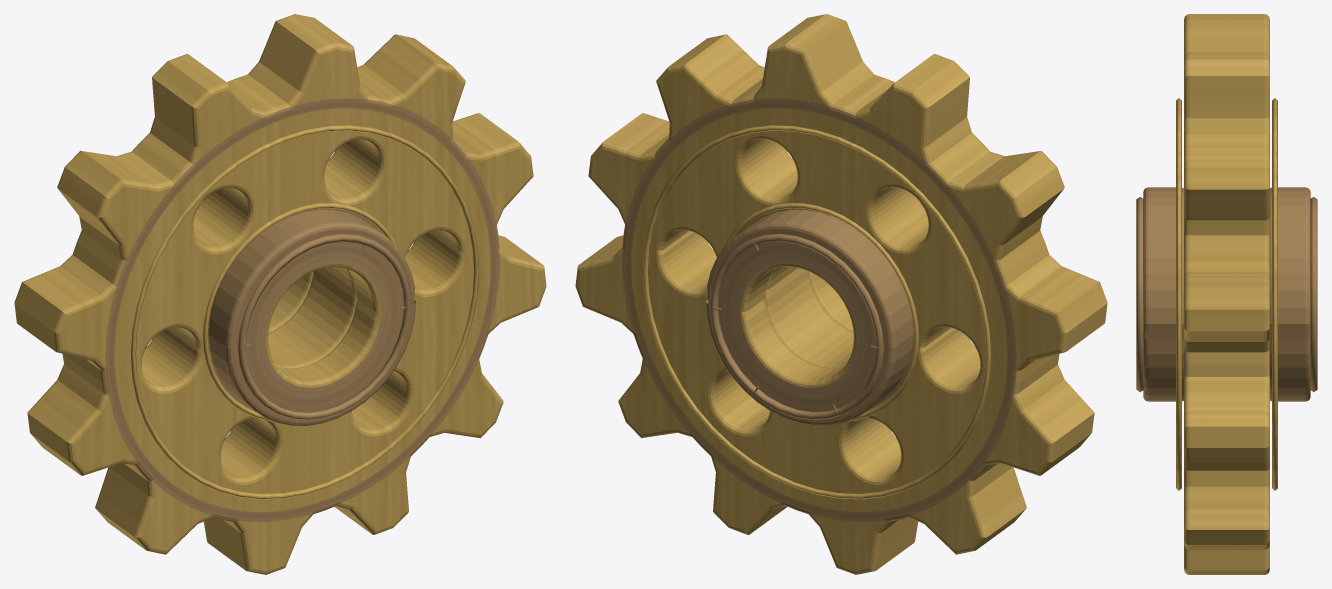
Rendered from source.glb.
The picture shows the model from 3 angles, left to right: view 1: azimuth 30°, elevation 25°; view 2: azimuth 150°, elevation 25°; view 3: azimuth 270°, elevation 25°; orthographic projection. The views are drawn at different scales.
Visible parts, largest first — view 1: brass; view 2: brass; view 3: brass.
Part boxes in pixels (x1,y1,x2,y2): brass: (14, 14, 546, 574); brass: (575, 14, 1107, 574); brass: (1136, 14, 1317, 574).
Bounding box in the file's own units: 0.2724 × 0.2724 × 0.0888.
1 material, 1 textured.
